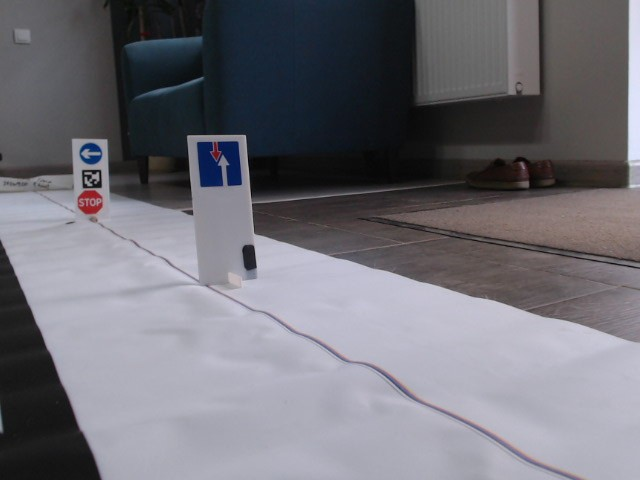Stop: (76, 189, 103, 214)
priority_movement: (196, 140, 243, 187)
